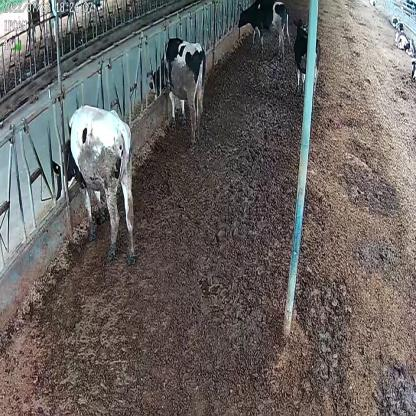cow: (50, 104, 136, 262), (150, 37, 207, 145), (238, 0, 290, 61), (290, 16, 322, 99)
